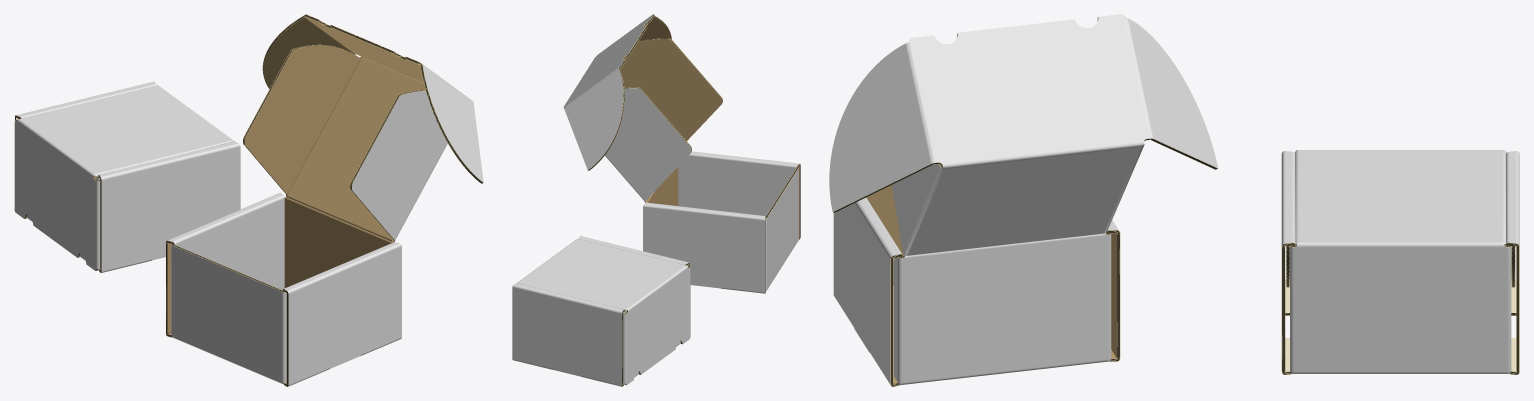
The model's file is Troquel1P0572.gltf.
3 renders of one model, left to right at view 1: azimuth 30°, elevation 25°; view 2: azimuth 150°, elevation 25°; view 3: azimuth 270°, elevation 25°, orthographic. The views are drawn at different scales.
Visible parts, largest first — view 1: TQ_ARD-node; view 2: TQ_ARD-node; view 3: TQ_ARD-node.
Boxes of the visible parts, x1=… form: TQ_ARD-node: x1=14, y1=14, x2=483, y2=386; TQ_ARD-node: x1=512, y1=14, x2=800, y2=386; TQ_ARD-node: x1=829, y1=14, x2=1519, y2=386.
Bounding box in the file's own units: 0.3731 × 0.3653 × 0.6245.
Materials: 6 (2 with a texture image).
